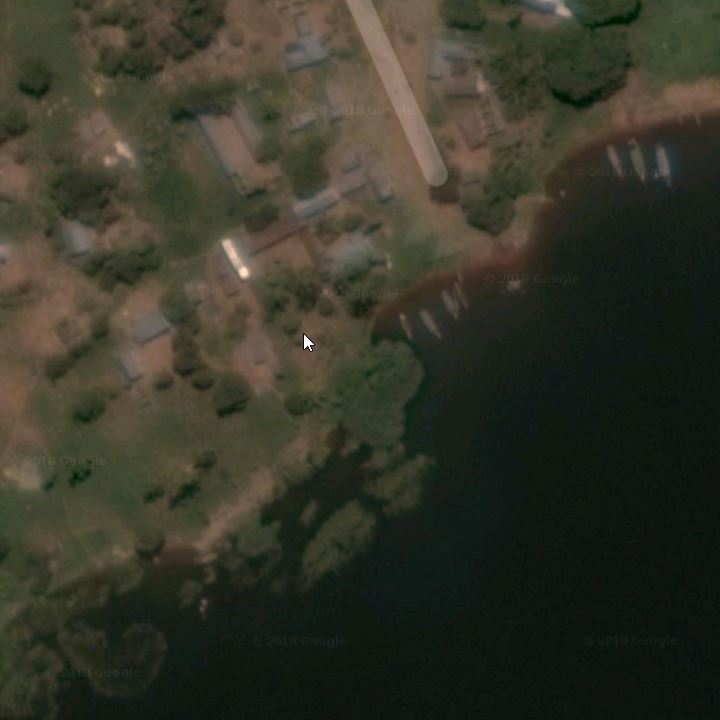boat: (622, 128, 650, 193), (650, 135, 675, 195), (599, 137, 628, 187), (412, 303, 447, 341), (449, 272, 475, 316), (435, 283, 463, 323), (392, 311, 419, 348)
